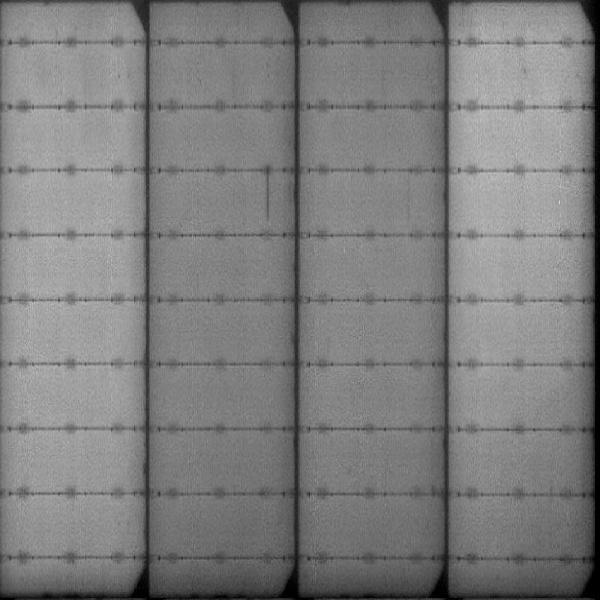scratch: (264, 170, 273, 219)
